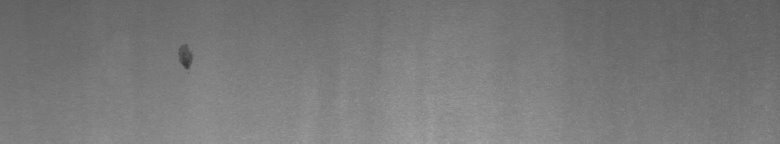fi: (173, 40, 197, 76)
